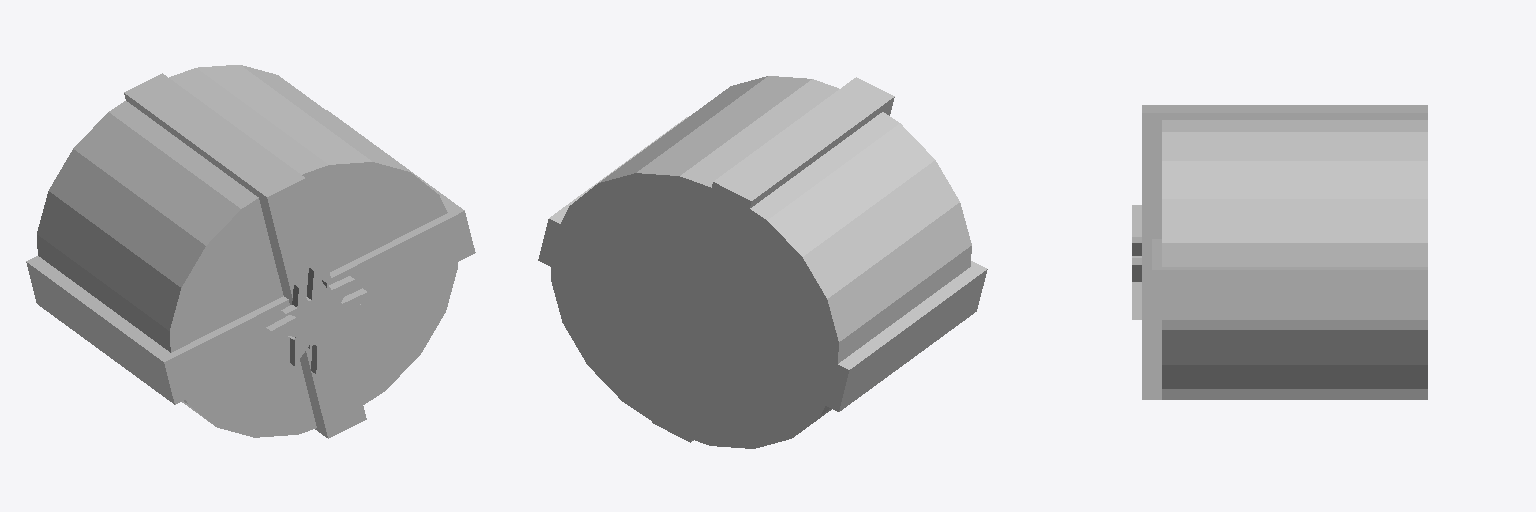
File: present4.obj
3 views of the same model, side by side, from view 1: azimuth 30°, elevation 25°; view 2: azimuth 150°, elevation 25°; view 3: azimuth 270°, elevation 25° (orthographic).
Visible parts, largest first — view 1: obj_0; view 2: obj_0; view 3: obj_0.
Part boxes in pixels (bbox=[...]): obj_0: bbox=[26, 65, 475, 438]; obj_0: bbox=[538, 76, 987, 448]; obj_0: bbox=[1132, 105, 1427, 399].
Size of the model in its own units: 35.17 by 28.74 by 29.